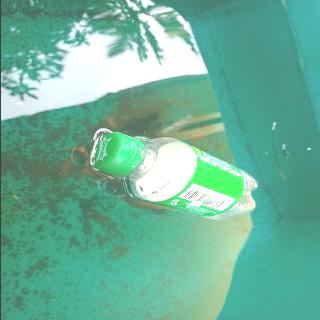bottle: (88, 130, 266, 222)
